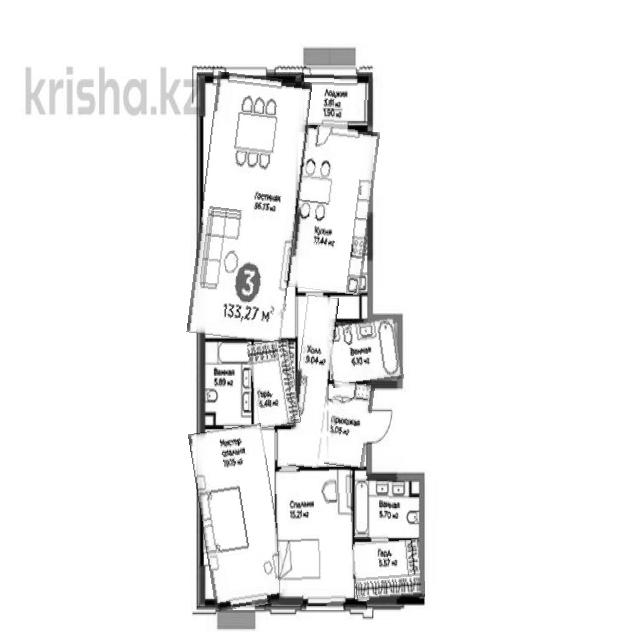balcony: (298, 74, 369, 126)
bathroom: (326, 317, 402, 386), (202, 341, 253, 425), (355, 477, 422, 539)
hallway: (292, 295, 334, 469), (327, 382, 373, 468)
kitchen: (292, 126, 375, 294)
living_room: (194, 74, 305, 341), (195, 426, 282, 610), (276, 468, 354, 605)
other: (353, 540, 424, 601), (250, 340, 298, 427)
